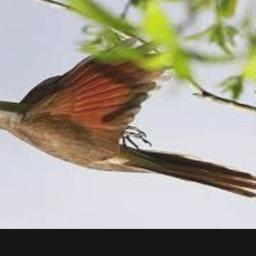Cuckoo: (0, 39, 256, 200)
